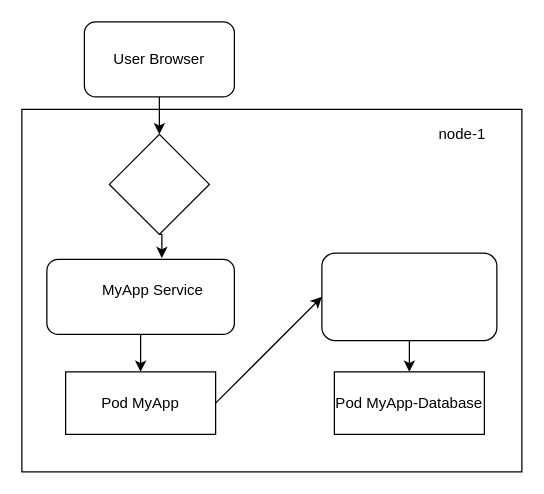
Some shapes in this 544 by 494 pixel diagram are drawn without their labels. Each missing label, with the box of its shape:
MyApp Database Service: (321, 252, 497, 341)
NodePort: (108, 133, 209, 234)
